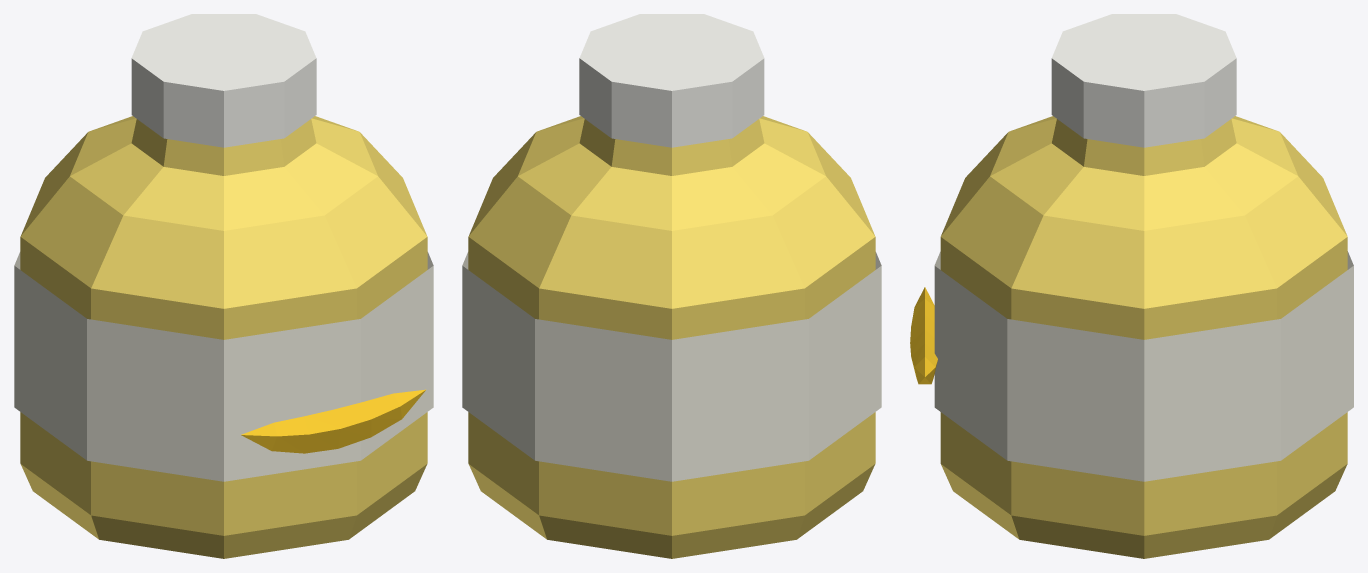
File: Food_BananaMilk.obj
The picture shows the model from 3 angles, left to right: view 1: azimuth 30°, elevation 25°; view 2: azimuth 150°, elevation 25°; view 3: azimuth 270°, elevation 25°; orthographic projection.
Bounding box in the file's own units: 1.32 × 1.5 × 1.42.
